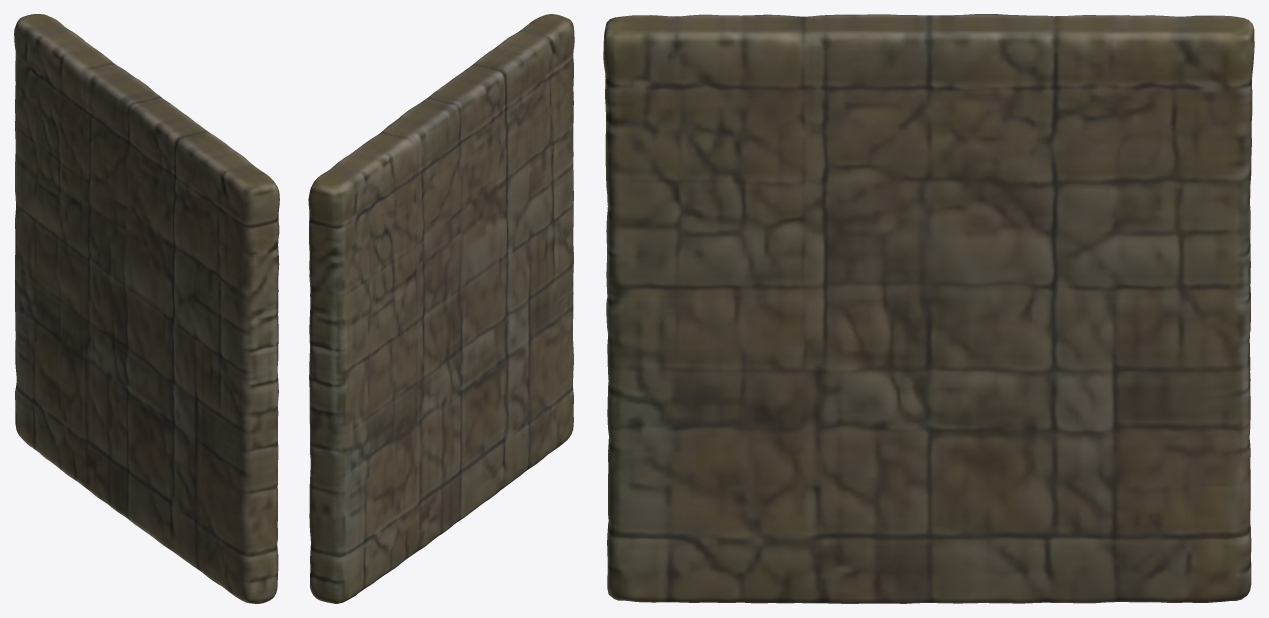
Rendered from marble.glb.
3 views of the same model, side by side, from view 1: azimuth 30°, elevation 25°; view 2: azimuth 150°, elevation 25°; view 3: azimuth 270°, elevation 25° (orthographic). The views are drawn at different scales.
Visible parts, largest first — view 1: mesh; view 2: mesh; view 3: mesh.
Boxes of the visible parts, x1,y1,x2,y2 form: mesh: (14,14,279,603); mesh: (308,14,574,603); mesh: (603,14,1254,603).
Size of the model in its own units: 0.1079 by 0.9674 by 0.9998.
1 material, 1 textured.
